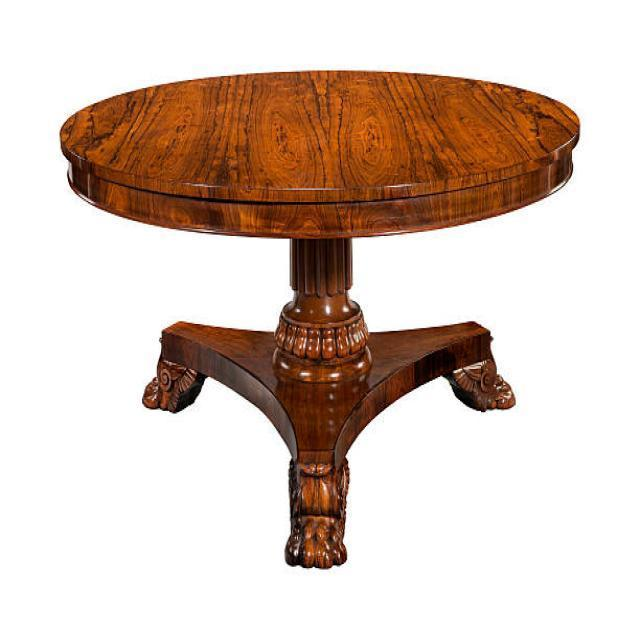table: (58, 68, 580, 568)
